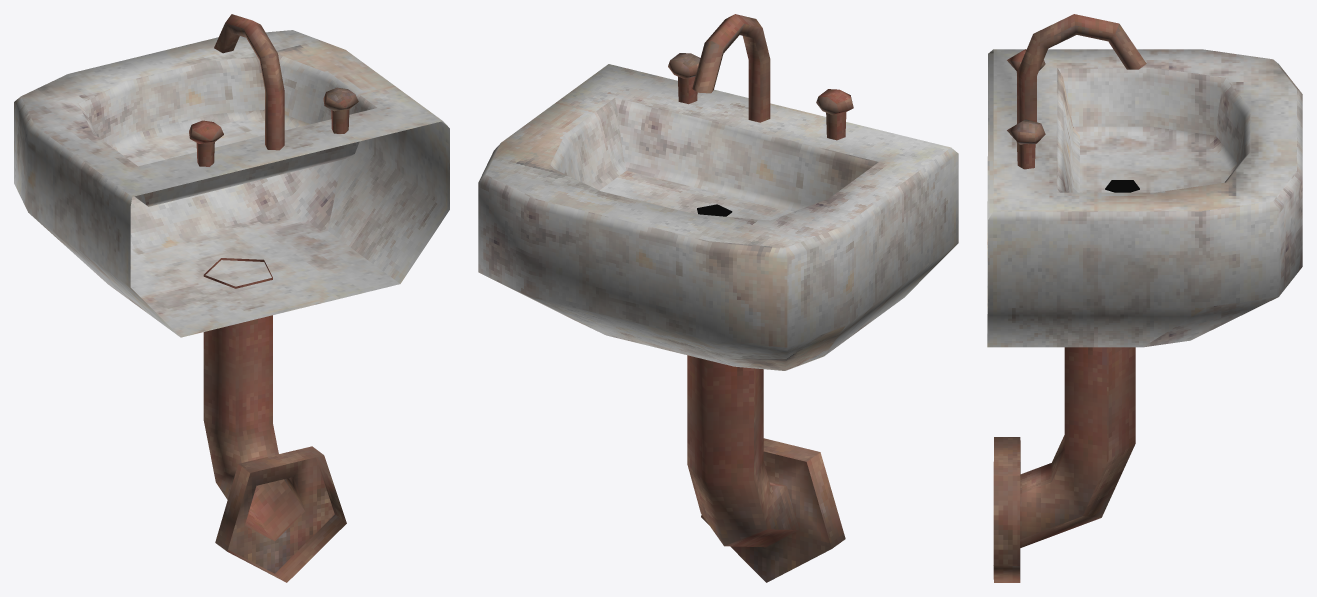
The model's file is _Sink_1.FBX.
3 views of the same model, side by side, from view 1: azimuth 30°, elevation 25°; view 2: azimuth 150°, elevation 25°; view 3: azimuth 270°, elevation 25° (orthographic). The views are drawn at different scales.
Parts seen in each view (by area): view 1: _Sink_1; view 2: _Sink_1; view 3: _Sink_1.
Part boxes in pixels (left/top/right/bottom): _Sink_1: left=14, top=14, right=449, bottom=582; _Sink_1: left=478, top=14, right=958, bottom=582; _Sink_1: left=987, top=14, right=1302, bottom=582.
Bounding box in the file's own units: 51.45 × 82.25 × 41.21.
3 materials, 3 textured.
